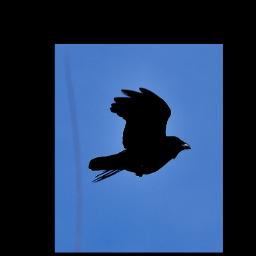Crow: (88, 87, 191, 185)
